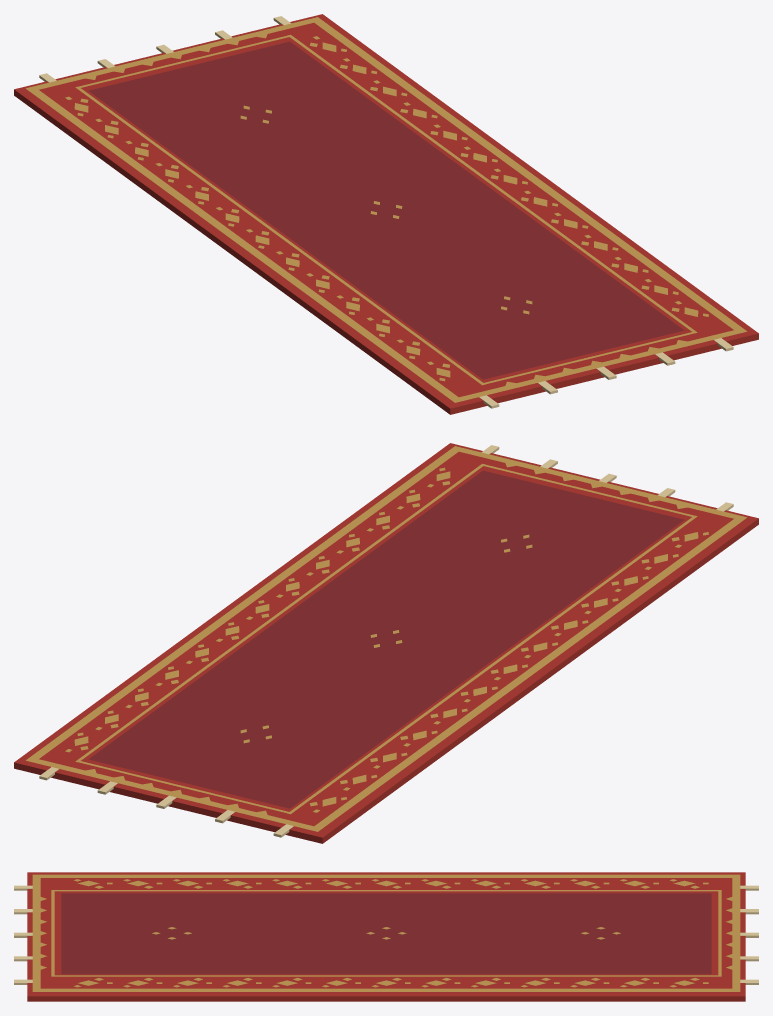
File: vestibule-runner.glb
3 views of the same model, one above another, from view 1: azimuth 30°, elevation 25°; view 2: azimuth 150°, elevation 25°; view 3: azimuth 270°, elevation 25° (orthographic). The views are drawn at different scales.
Parts seen in each view (by area): view 1: Vestibule embroidered runner; view 2: Vestibule embroidered runner; view 3: Vestibule embroidered runner.
Boxes of the visible parts, x1,y1,x2,y2 form: Vestibule embroidered runner: (14,14,758,414); Vestibule embroidered runner: (14,443,758,843); Vestibule embroidered runner: (14,872,758,1001).
Bounding box in the file's own units: 1.3 × 0.0306 × 3.3.
